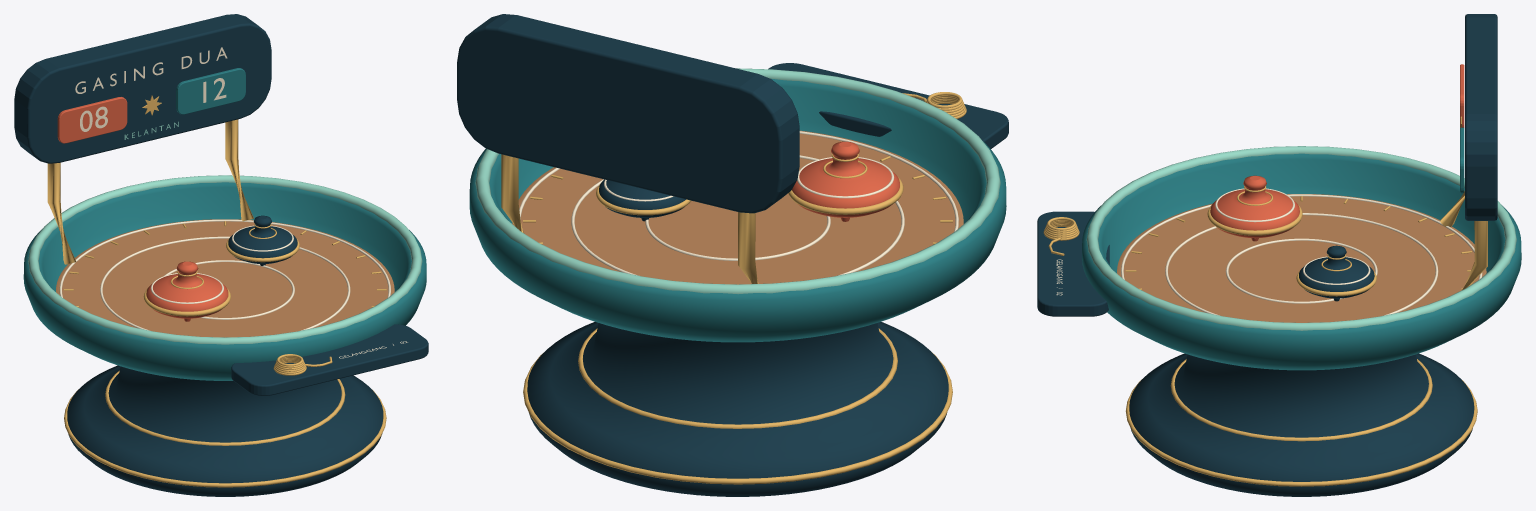
3 renders of one model, left to right at view 1: azimuth 30°, elevation 25°; view 2: azimuth 150°, elevation 25°; view 3: azimuth 270°, elevation 25°, orthographic. The views are drawn at different scales.
Parts seen in each view (by area): view 1: Gasing Dua | Spin arena - Arena, Gasing Dua | Spin arena - Base, Gasing Dua | Spin arena - Graphics, Gasing Dua | Spin arena - Metalwork, Gasing Dua | Spin arena - Cabinetry, Gasing Dua | Spin arena - Tops, Gasing Dua | Spin arena - Structure, Gasing Dua | Spin arena - Cord; view 2: Gasing Dua | Spin arena - Arena, Gasing Dua | Spin arena - Base, Gasing Dua | Spin arena - Graphics, Gasing Dua | Spin arena - Metalwork, Gasing Dua | Spin arena - Tops, Gasing Dua | Spin arena - Cabinetry, Gasing Dua | Spin arena - Structure, Gasing Dua | Spin arena - Cord; view 3: Gasing Dua | Spin arena - Arena, Gasing Dua | Spin arena - Base, Gasing Dua | Spin arena - Metalwork, Gasing Dua | Spin arena - Graphics, Gasing Dua | Spin arena - Tops, Gasing Dua | Spin arena - Cabinetry, Gasing Dua | Spin arena - Structure, Gasing Dua | Spin arena - Cord.
Part boxes in pixels (<box>): Gasing Dua | Spin arena - Arena: <box>23,182,426,380</box>; Gasing Dua | Spin arena - Base: <box>67,365,383,496</box>; Gasing Dua | Spin arena - Graphics: <box>14,14,407,358</box>; Gasing Dua | Spin arena - Metalwork: <box>28,175,422,487</box>; Gasing Dua | Spin arena - Cabinetry: <box>231,324,428,395</box>; Gasing Dua | Spin arena - Tops: <box>143,215,299,321</box>; Gasing Dua | Spin arena - Structure: <box>47,119,253,264</box>; Gasing Dua | Spin arena - Cord: <box>273,354,332,375</box>; Gasing Dua | Spin arena - Arena: <box>469,78,1006,342</box>; Gasing Dua | Spin arena - Base: <box>527,322,948,496</box>; Gasing Dua | Spin arena - Graphics: <box>457,14,799,213</box>; Gasing Dua | Spin arena - Metalwork: <box>475,68,1000,484</box>; Gasing Dua | Spin arena - Tops: <box>596,141,903,221</box>; Gasing Dua | Spin arena - Cabinetry: <box>768,63,1008,148</box>; Gasing Dua | Spin arena - Structure: <box>501,154,758,283</box>; Gasing Dua | Spin arena - Cord: <box>902,92,966,118</box>; Gasing Dua | Spin arena - Arena: <box>1082,153,1521,370</box>; Gasing Dua | Spin arena - Base: <box>1129,353,1474,496</box>; Gasing Dua | Spin arena - Metalwork: <box>1086,146,1516,486</box>; Gasing Dua | Spin arena - Graphics: <box>1056,14,1497,295</box>; Gasing Dua | Spin arena - Tops: <box>1207,175,1376,301</box>; Gasing Dua | Spin arena - Cabinetry: <box>1037,211,1109,316</box>; Gasing Dua | Spin arena - Structure: <box>1440,191,1487,289</box>; Gasing Dua | Spin arena - Cord: <box>1043,217,1079,255</box>.
Size of the model in its own units: 1.89 by 1.72 by 2.08.
